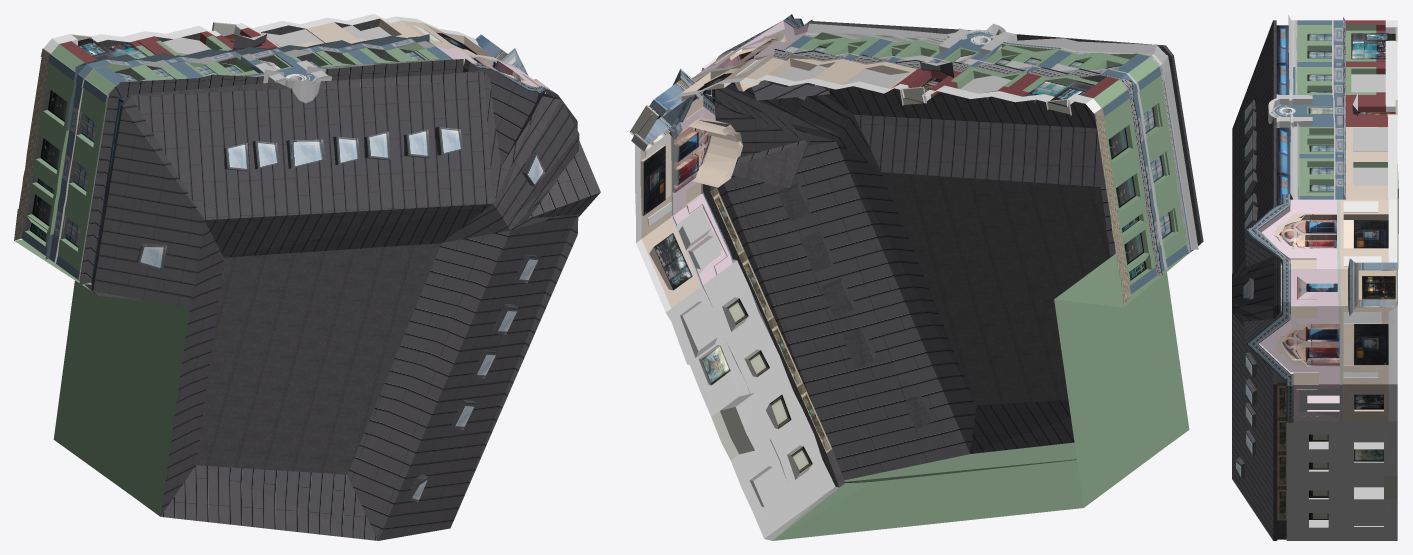
The model's file is Viru_24-origo.obj.
The picture shows the model from 3 angles, left to right: view 1: azimuth 30°, elevation 25°; view 2: azimuth 150°, elevation 25°; view 3: azimuth 270°, elevation 25°; orthographic projection. The views are drawn at different scales.
Parts seen in each view (by area): view 1: viru24; view 2: viru24; view 3: viru24.
Boxes of the visible parts, left/top/right/bottom form: viru24: left=14, top=14, right=600, bottom=540; viru24: left=629, top=14, right=1203, bottom=540; viru24: left=1232, top=14, right=1398, bottom=540.
Bounding box in the file's own units: 34 × 33.5 × 12.51.
